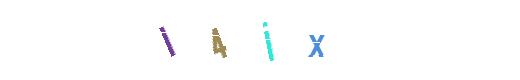4: (178, 0, 258, 80)
J: (220, 0, 300, 80)
L: (127, 0, 207, 80)
X: (255, 0, 335, 80)
